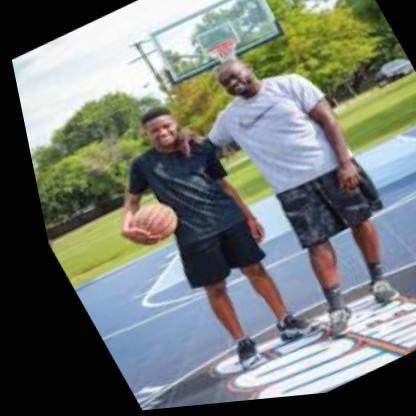basketball: (113, 197, 178, 249)
rim: (199, 40, 238, 61)
